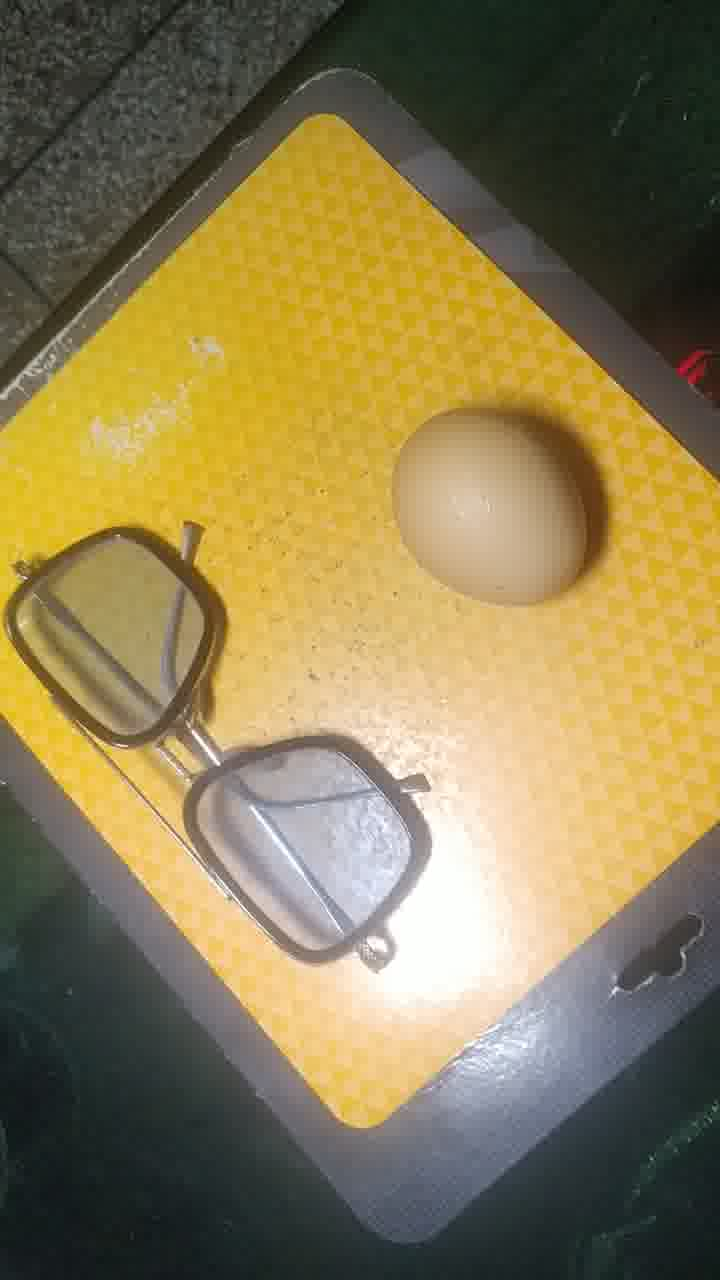egg: (394, 413, 606, 636)
sunglass: (8, 510, 431, 984)
